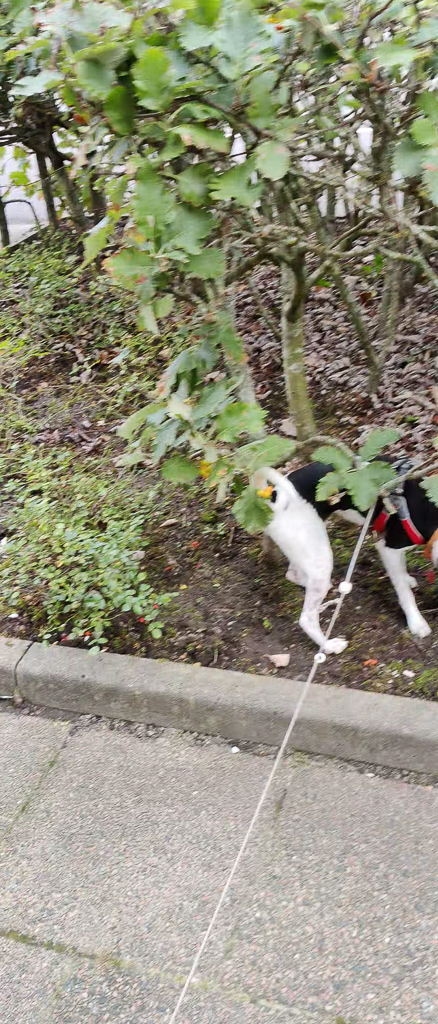Dog: (222, 443, 438, 665)
